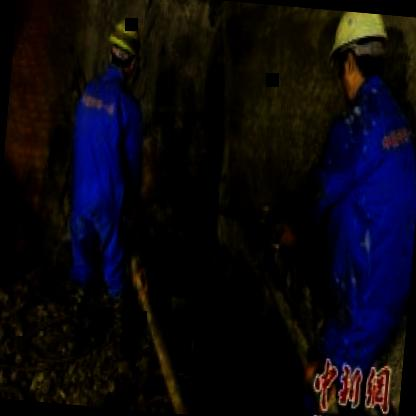helmet: (319, 10, 393, 111), (106, 18, 142, 80)
